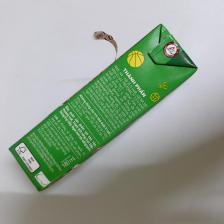Juice Box: (13, 21, 184, 186)
